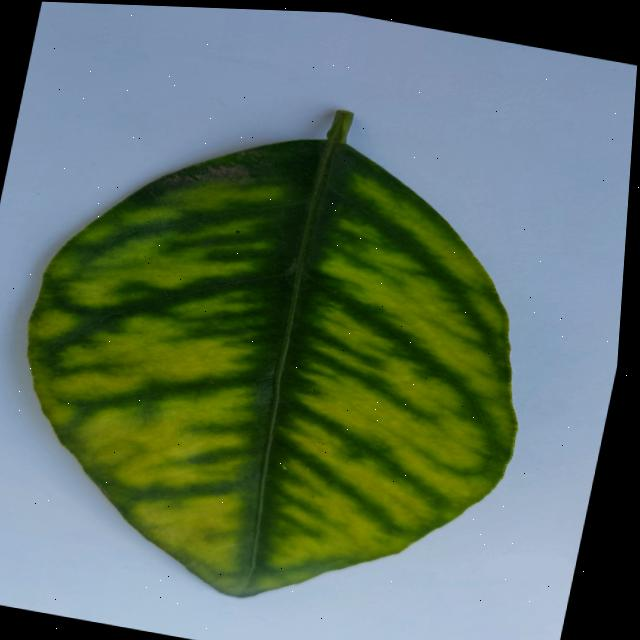greening: (28, 110, 516, 597)
